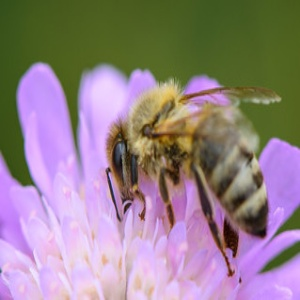bee: (105, 83, 283, 276)
